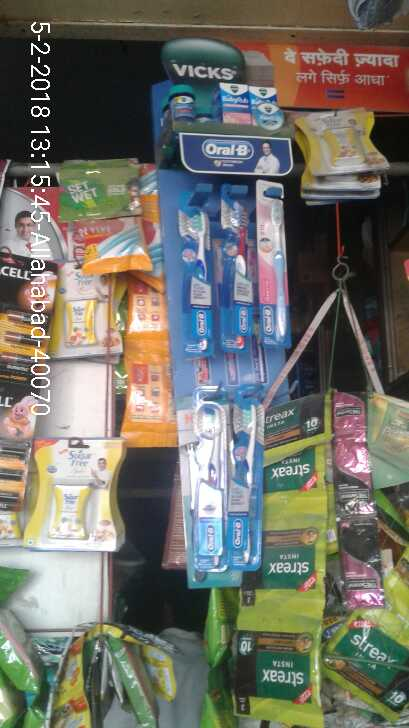pharmacy: (175, 197, 221, 358), (217, 180, 254, 350), (255, 180, 292, 348), (232, 385, 263, 570), (193, 395, 224, 557), (217, 79, 248, 115), (168, 83, 193, 120)
